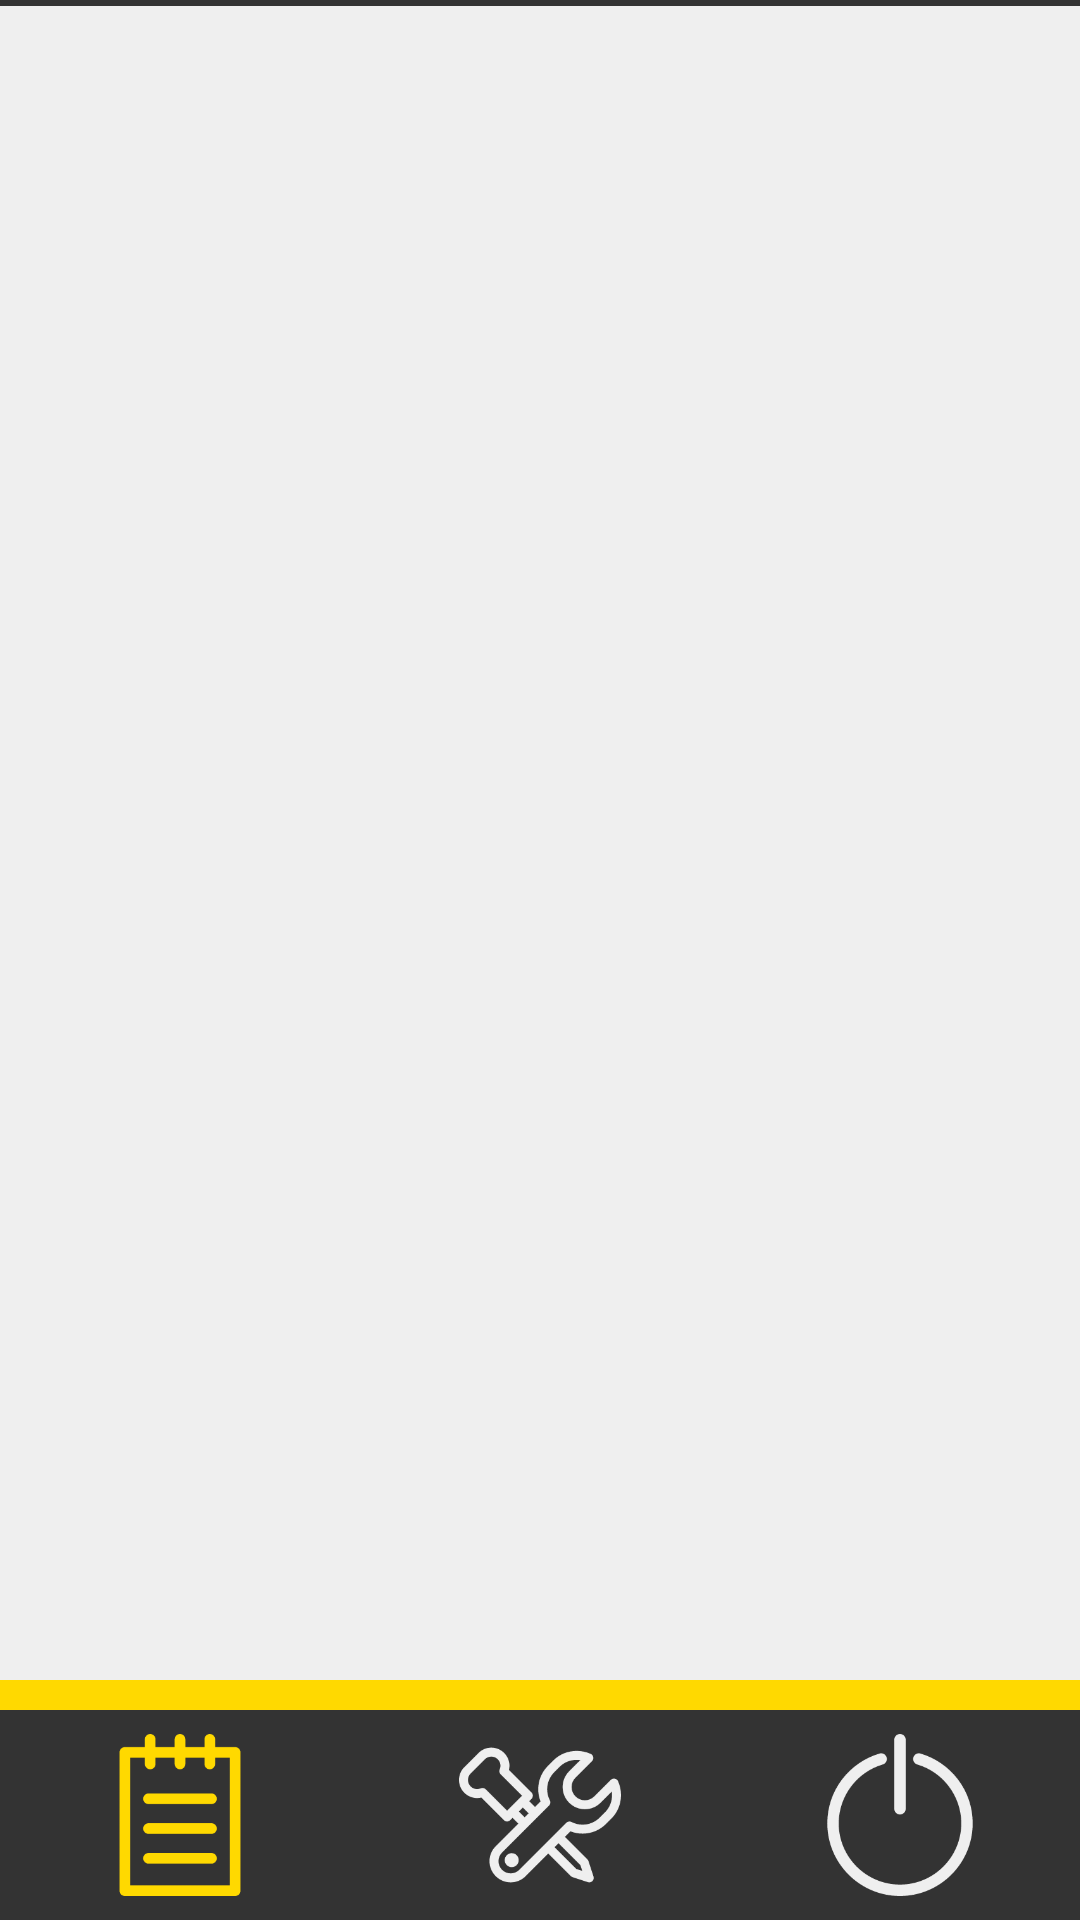

Point at icon controls on the screen. Image size 1080px×1920px, points as [x,y].
notes: [180,1815]
power: [900,1815]
screwdriver: [540,1815]
